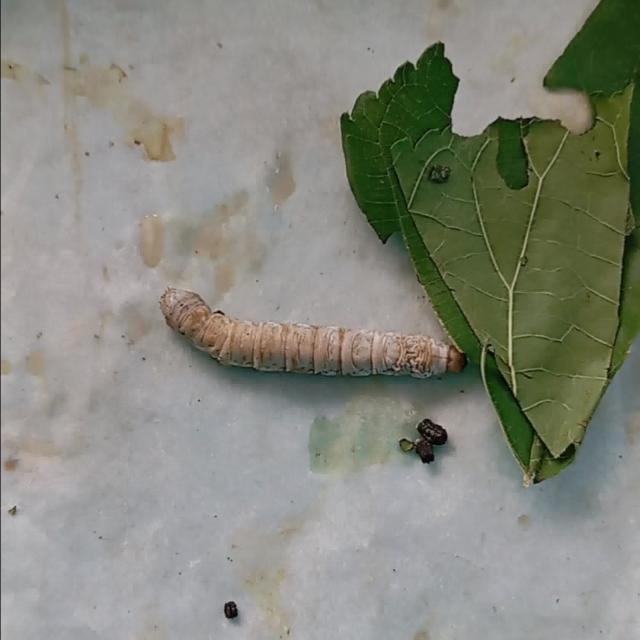Grasserie: (127, 238, 486, 422)
